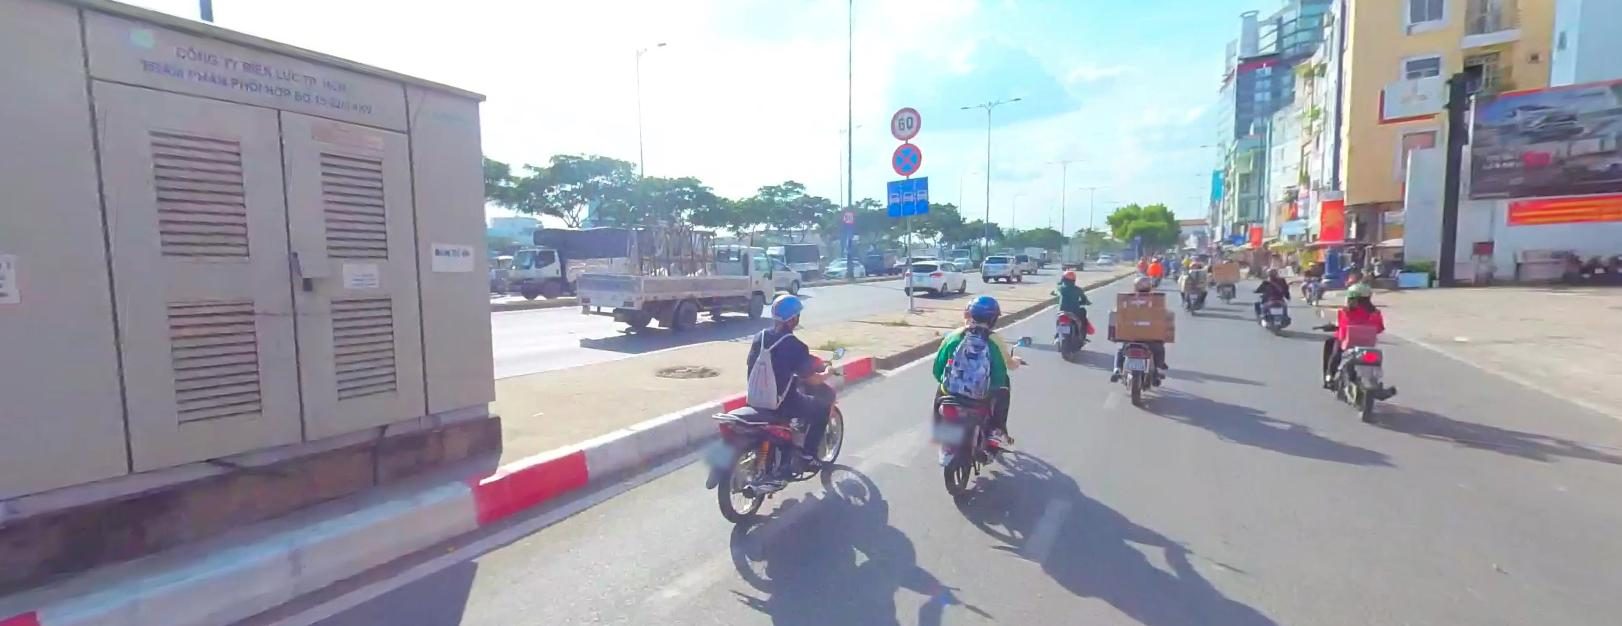Cam dung va do: (891, 142, 922, 175)
Gioi han toc do: (889, 106, 919, 137), (842, 210, 855, 223)
